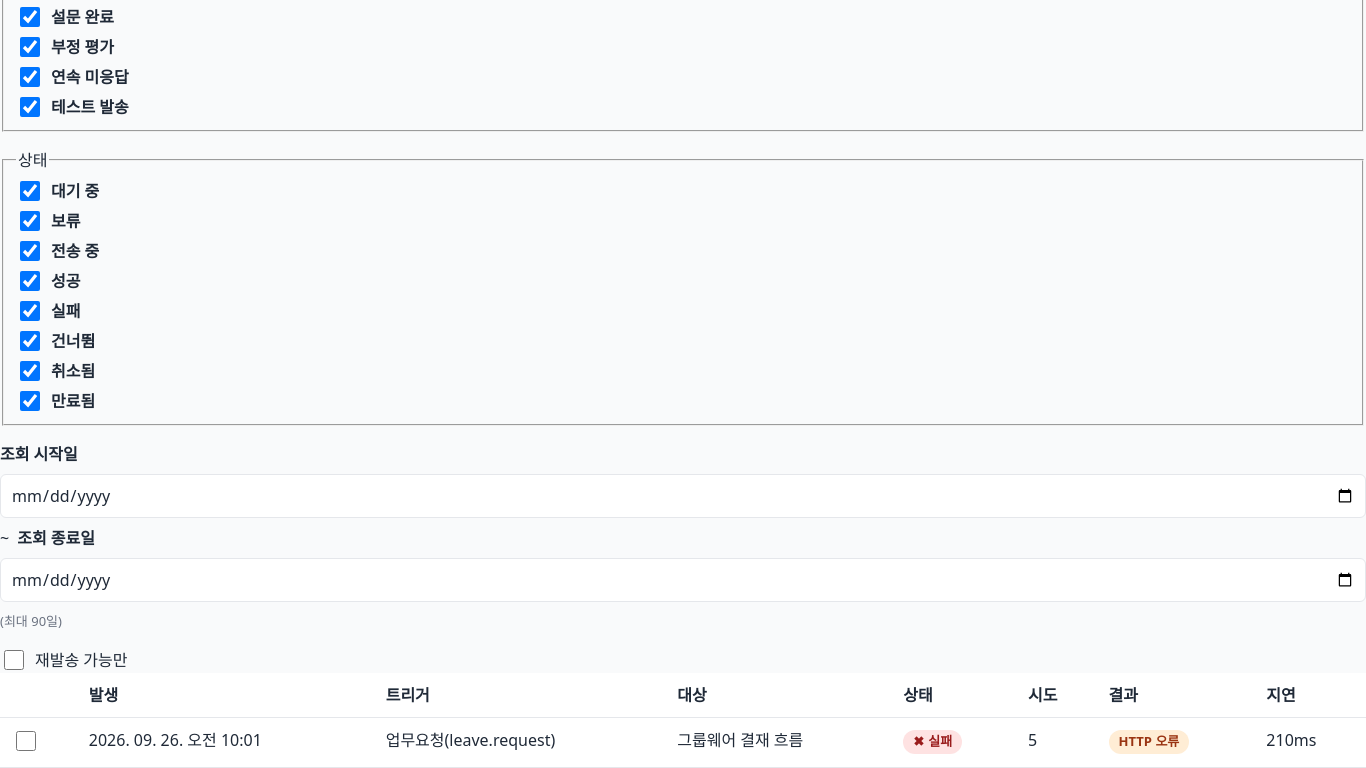
ChatbotWorkflowRunsPage — 재발송/취소 › WORKFLOW_RUN_NOT_RETRYABLE 응답이면 확인 모달에 부분 거부 배너를 보여준다
(page scrolled)
Expected: the text "그룹웨어 결재 흐름" is shown, [665,718,891,767]
Click the checkbox named "7f1c2e3a-aaaa-4aaa-8aaa-aaaaaaaaaaaa 선택". click: (26, 741)
box: [16,731,36,751]
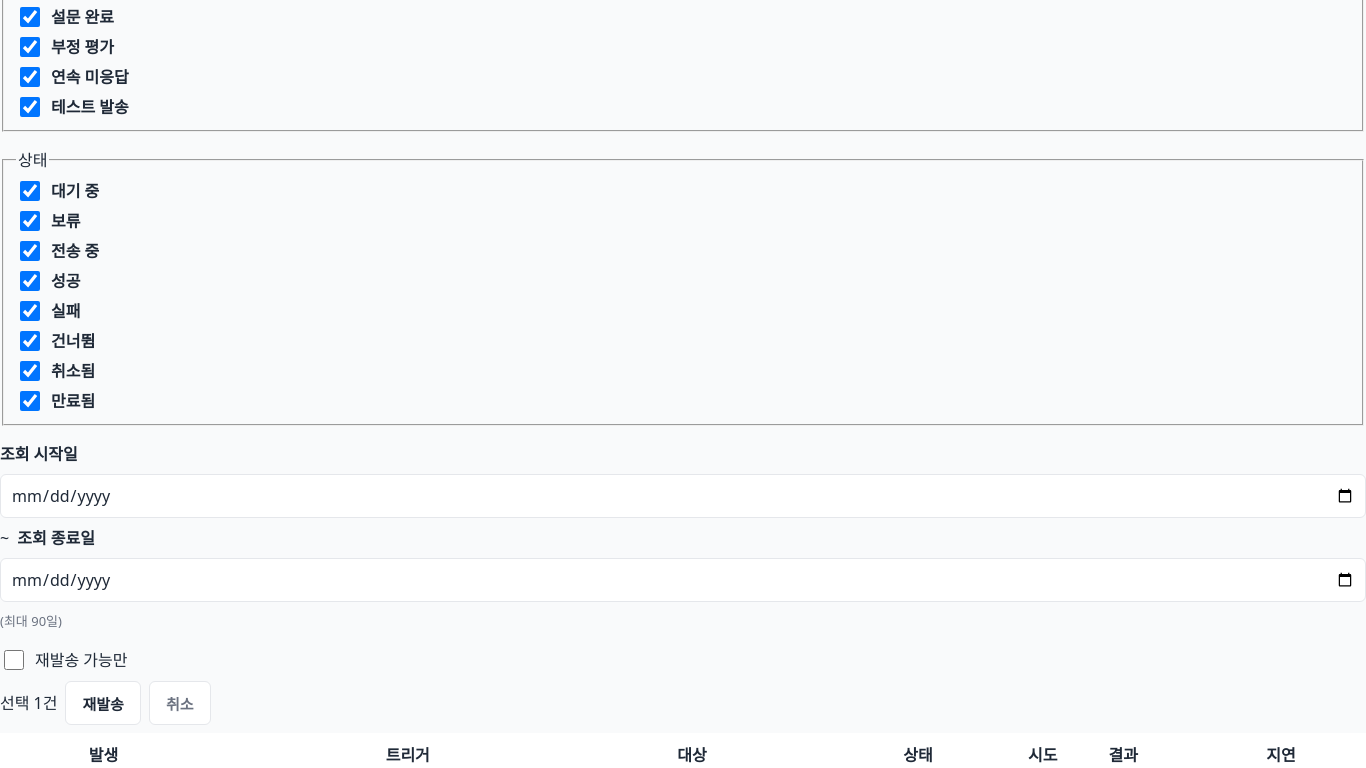
Click the button "재발송". click: (103, 703)
box: [66,681,141,725]
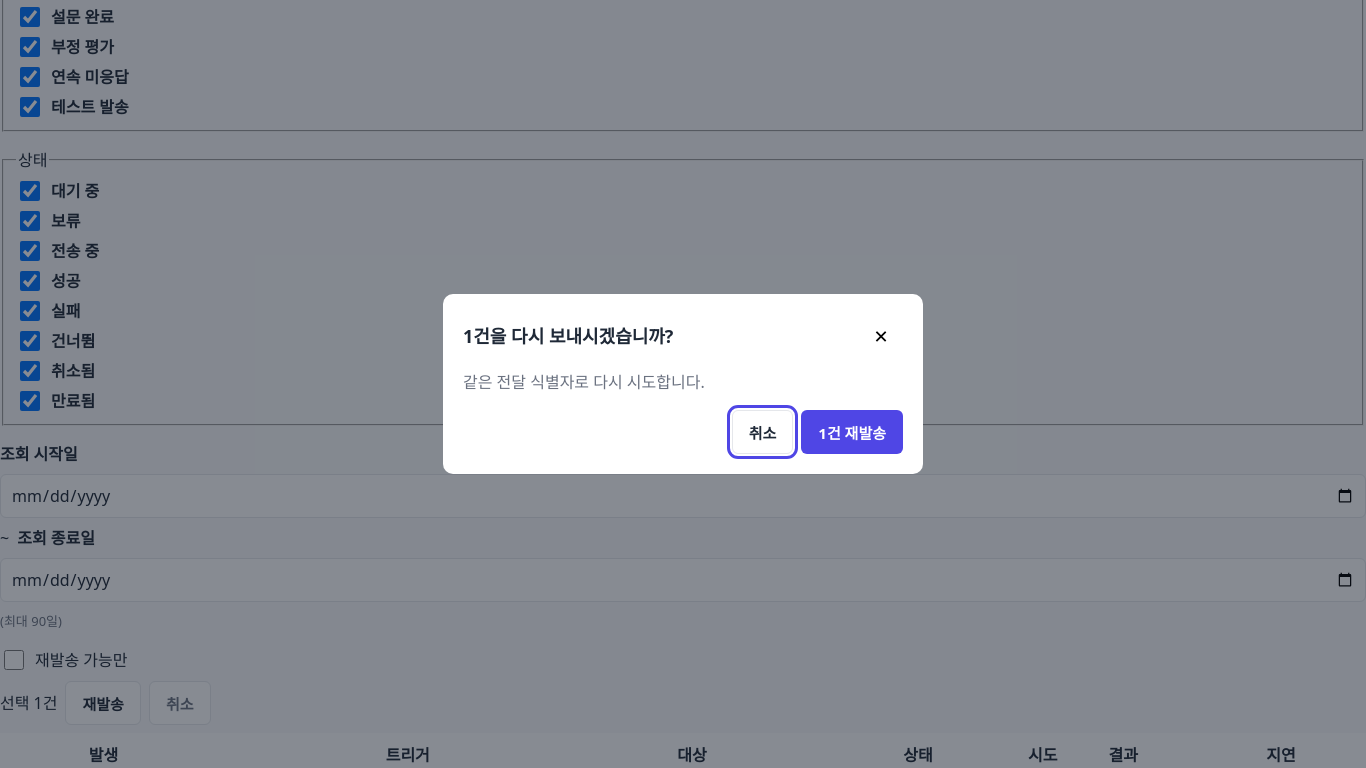
Click the button "1건 재발송". click: (852, 432)
box: [801,410,903,454]
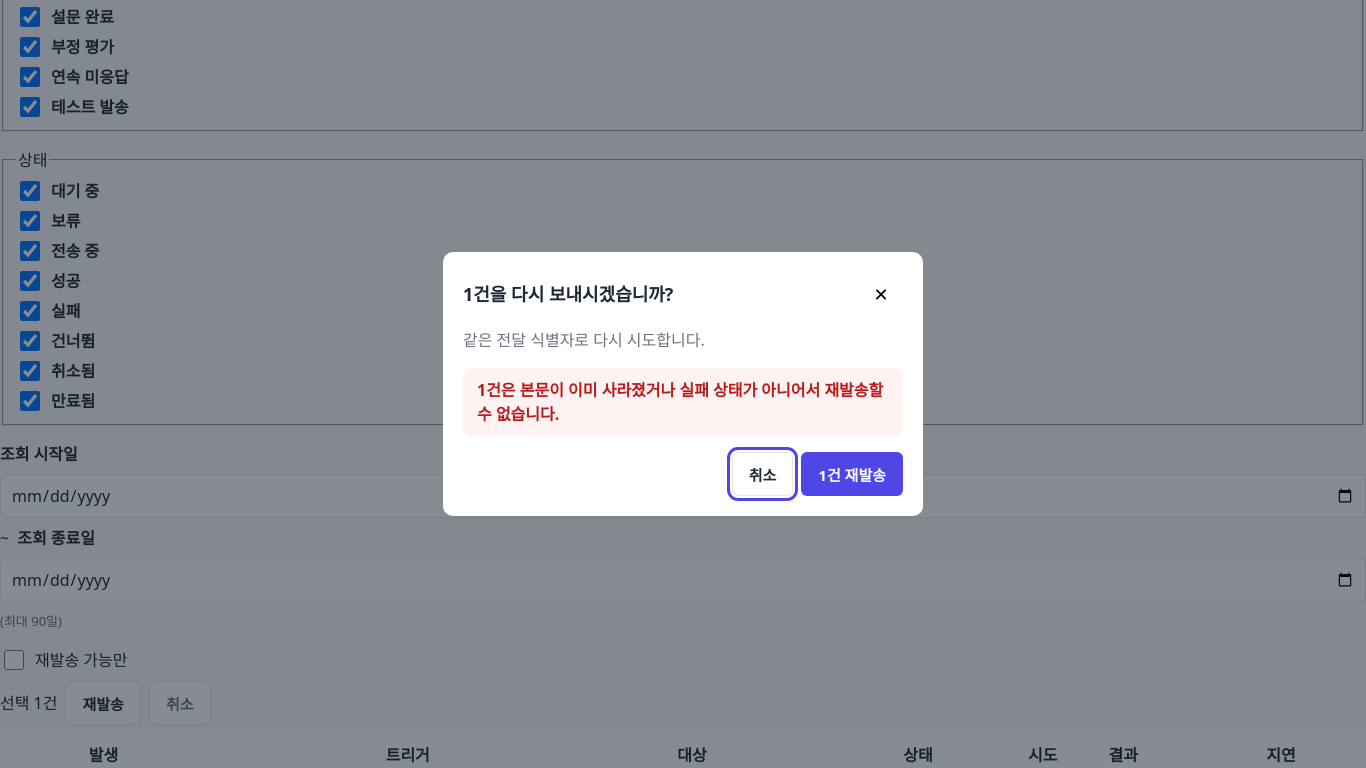
Result: the text "1건은 본문이 이미 사라졌거나 실패 상태가 아니어서 재발송할 수 없습니다." is shown at [463,368,903,436]
